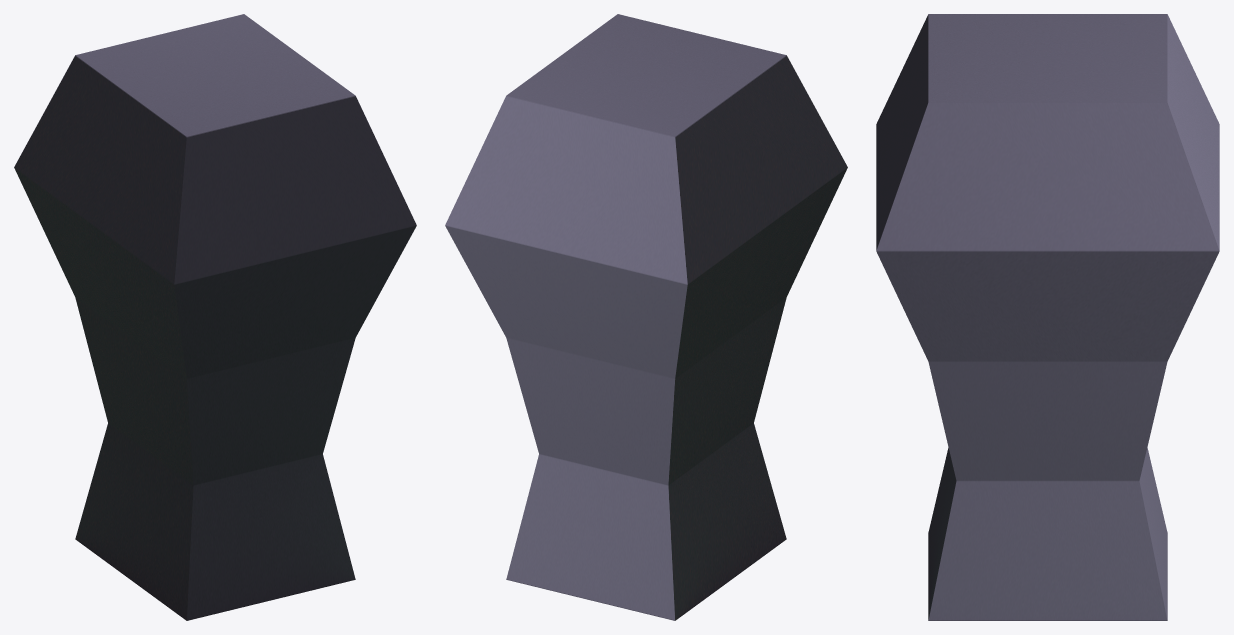
The model's file is child3.gltf.
The picture shows the model from 3 angles, left to right: view 1: azimuth 30°, elevation 25°; view 2: azimuth 150°, elevation 25°; view 3: azimuth 270°, elevation 25°; orthographic projection. The views are drawn at different scales.
Visible parts, largest first — view 1: Cube.003; view 2: Cube.003; view 3: Cube.003.
Boxes of the visible parts, bbox=[...] form: Cube.003: bbox=[14, 14, 416, 620]; Cube.003: bbox=[445, 14, 847, 620]; Cube.003: bbox=[876, 14, 1219, 620].
Bounding box in the file's own units: 1.05 × 2 × 1.2.
Materials: 1 (1 with a texture image).
